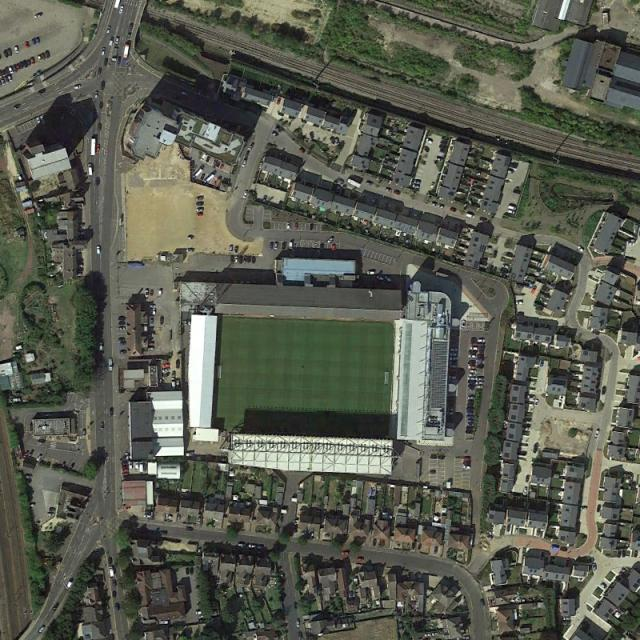vehicle: (90, 136, 99, 158), (122, 43, 131, 59), (202, 172, 214, 184), (193, 167, 202, 178), (88, 163, 94, 176), (66, 581, 74, 590), (384, 274, 392, 282), (298, 146, 305, 155), (3, 49, 9, 59), (95, 144, 101, 154), (109, 358, 113, 372), (38, 626, 45, 634), (271, 130, 278, 138), (109, 566, 114, 577), (34, 12, 43, 18), (118, 5, 124, 14), (108, 37, 114, 46), (95, 177, 101, 186), (413, 179, 422, 185), (411, 184, 420, 190), (393, 190, 402, 196), (248, 142, 254, 151), (45, 49, 50, 59), (97, 66, 102, 76), (134, 461, 139, 471), (23, 474, 33, 479), (171, 371, 176, 381), (242, 158, 247, 168), (14, 103, 21, 110), (438, 203, 445, 210), (38, 88, 46, 94), (342, 550, 350, 556), (476, 375, 484, 381), (468, 364, 476, 370), (162, 362, 170, 368), (466, 213, 474, 219), (14, 45, 19, 54), (12, 64, 17, 73), (128, 22, 133, 31), (101, 81, 106, 90), (98, 101, 103, 110), (98, 342, 103, 351), (114, 602, 119, 611), (195, 610, 204, 615), (449, 375, 458, 380), (195, 196, 204, 201), (175, 378, 180, 387), (508, 205, 517, 210), (242, 254, 247, 263), (243, 190, 248, 199), (262, 194, 267, 203), (595, 429, 600, 438), (35, 37, 41, 44), (149, 303, 156, 309), (426, 138, 433, 144), (436, 156, 442, 163), (37, 54, 42, 62), (126, 32, 131, 40), (23, 450, 28, 458), (139, 462, 143, 472), (112, 579, 117, 587), (238, 542, 246, 547), (296, 618, 300, 628), (298, 631, 303, 639), (463, 461, 471, 466), (531, 286, 536, 294), (450, 356, 458, 361), (201, 153, 206, 161), (196, 207, 204, 212), (117, 326, 125, 331), (152, 308, 157, 316), (162, 368, 170, 373), (550, 545, 558, 550), (513, 189, 521, 194), (430, 202, 438, 207), (376, 275, 384, 280), (8, 47, 12, 56), (74, 84, 80, 90), (115, 35, 119, 44), (102, 46, 106, 55), (94, 90, 98, 99), (98, 122, 102, 131), (96, 245, 100, 254), (110, 407, 114, 416), (462, 457, 471, 461), (578, 246, 584, 252), (477, 338, 486, 342), (195, 202, 204, 206), (82, 427, 86, 436), (366, 270, 375, 274), (230, 243, 234, 252), (239, 255, 243, 264), (274, 241, 278, 250), (289, 241, 293, 250), (282, 241, 286, 250), (32, 38, 37, 45), (25, 41, 30, 48), (7, 74, 12, 81), (4, 77, 9, 84), (106, 26, 111, 33), (249, 543, 256, 548), (357, 557, 364, 562), (196, 213, 203, 218), (119, 350, 126, 355), (171, 382, 176, 389), (450, 207, 457, 212), (269, 242, 274, 249), (30, 57, 34, 65), (26, 58, 30, 66), (9, 66, 13, 74), (1, 78, 5, 86), (104, 58, 108, 66), (100, 422, 104, 430), (129, 462, 133, 470), (481, 598, 485, 606), (450, 353, 458, 357), (450, 364, 458, 368), (470, 346, 478, 350), (469, 354, 477, 358), (522, 487, 526, 495), (186, 248, 194, 252), (158, 289, 162, 297), (118, 316, 126, 320), (118, 321, 126, 325), (331, 244, 335, 252), (230, 255, 234, 263), (286, 222, 290, 230), (17, 174, 22, 180), (188, 235, 194, 240), (463, 466, 470, 470), (515, 301, 522, 305), (467, 395, 474, 399), (470, 342, 477, 346), (478, 342, 485, 346), (477, 350, 484, 354), (468, 376, 475, 380), (117, 338, 124, 342), (507, 210, 514, 214), (234, 255, 238, 262), (294, 223, 298, 230), (310, 223, 314, 230), (145, 289, 148, 298), (41, 54, 45, 60), (22, 60, 26, 66), (19, 62, 23, 68), (17, 63, 20, 71), (450, 348, 458, 351), (478, 346, 484, 350), (148, 346, 154, 350), (120, 342, 126, 346), (469, 373, 474, 377)
